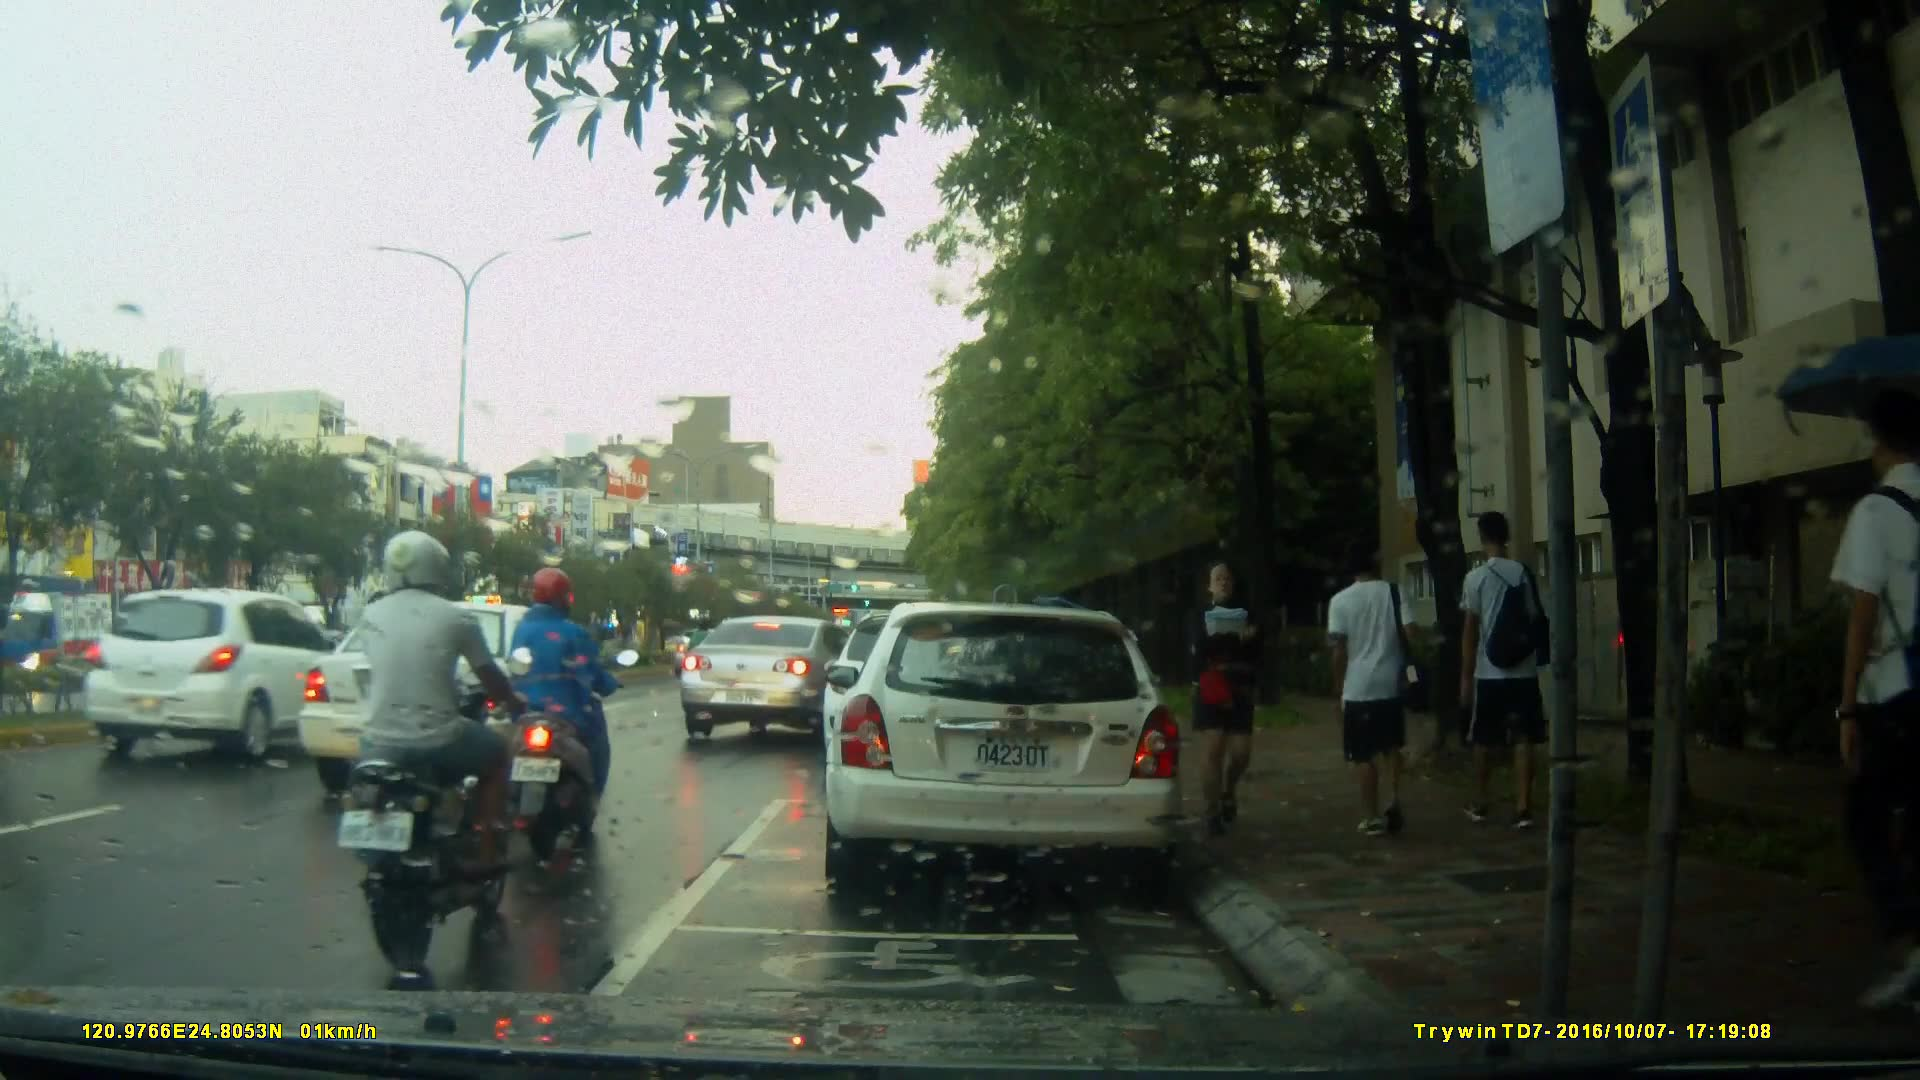pedestrian: (1828, 383, 1916, 1007), (1445, 511, 1548, 852), (1309, 536, 1414, 845), (1214, 563, 1301, 848)
rider: (344, 530, 528, 955), (497, 570, 641, 850), (685, 610, 716, 712)
vehicle: (820, 602, 1188, 898), (287, 599, 607, 802), (81, 589, 359, 769), (673, 613, 891, 746)
